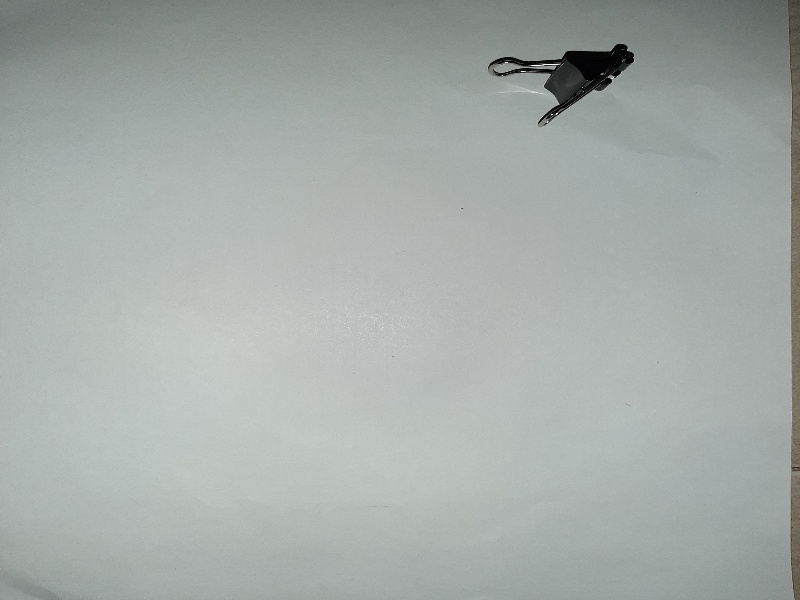Big Paperclip: (482, 28, 659, 130)
